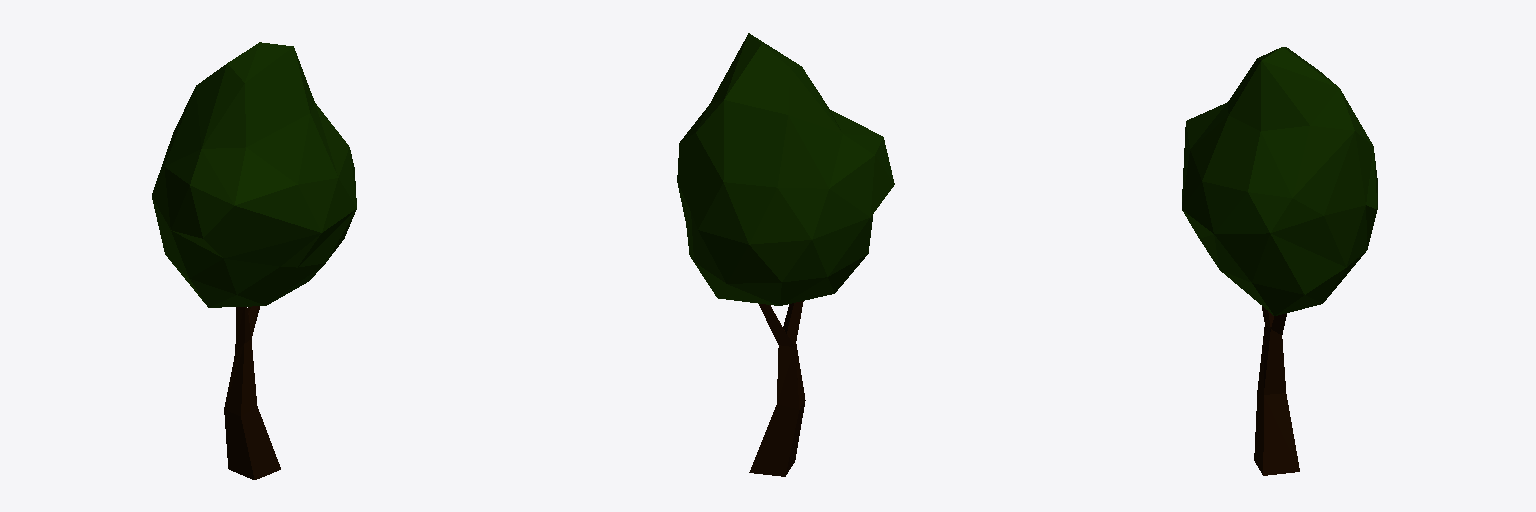
The model's file is tree_lvl_13.obj.
3 renders of one model, left to right at view 1: azimuth 30°, elevation 25°; view 2: azimuth 150°, elevation 25°; view 3: azimuth 270°, elevation 25°, orthographic.
Size of the model in its own units: 2.74 by 5.89 by 2.49.